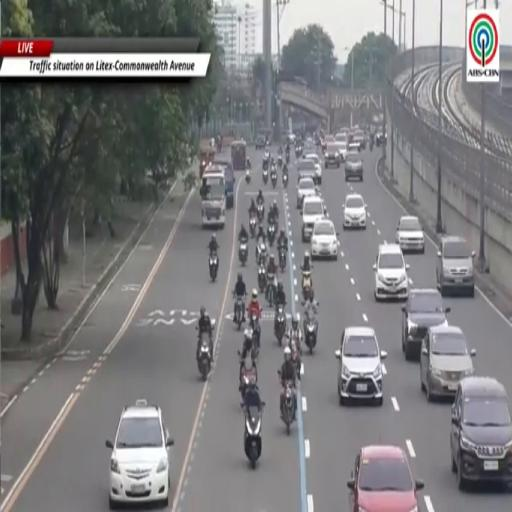bus: (201, 166, 226, 228)
car: (106, 399, 174, 509), (450, 377, 511, 490), (348, 445, 424, 511), (420, 326, 476, 401), (335, 327, 386, 405), (402, 288, 450, 360), (436, 236, 476, 297), (373, 245, 409, 300), (311, 218, 338, 260), (301, 196, 325, 242), (396, 216, 425, 253), (343, 194, 366, 229), (297, 178, 317, 209), (345, 151, 363, 181), (306, 153, 321, 184), (297, 157, 315, 181), (325, 142, 341, 168), (336, 141, 347, 162), (353, 131, 365, 149), (322, 135, 333, 152), (376, 131, 387, 147), (255, 135, 266, 150), (348, 142, 360, 152), (334, 133, 347, 142), (287, 132, 296, 144)
jeepney: (199, 147, 216, 178), (231, 140, 246, 170)
motorcycle: (241, 402, 265, 469), (303, 303, 318, 354), (280, 381, 294, 435), (239, 364, 257, 401), (198, 332, 211, 380), (289, 340, 301, 379), (275, 304, 286, 346), (251, 313, 260, 359), (250, 319, 259, 365), (234, 294, 245, 330), (301, 270, 312, 301), (266, 274, 276, 307), (256, 240, 266, 267), (209, 252, 218, 281), (239, 238, 248, 265), (267, 222, 276, 247), (258, 265, 266, 292), (249, 215, 257, 238), (279, 247, 286, 271), (262, 151, 270, 169), (257, 203, 264, 222), (271, 169, 277, 188), (282, 173, 288, 188), (263, 168, 268, 185), (262, 158, 269, 170), (277, 155, 282, 168), (246, 170, 250, 184), (295, 147, 300, 157), (286, 152, 290, 164), (370, 139, 373, 151), (298, 146, 302, 155)
